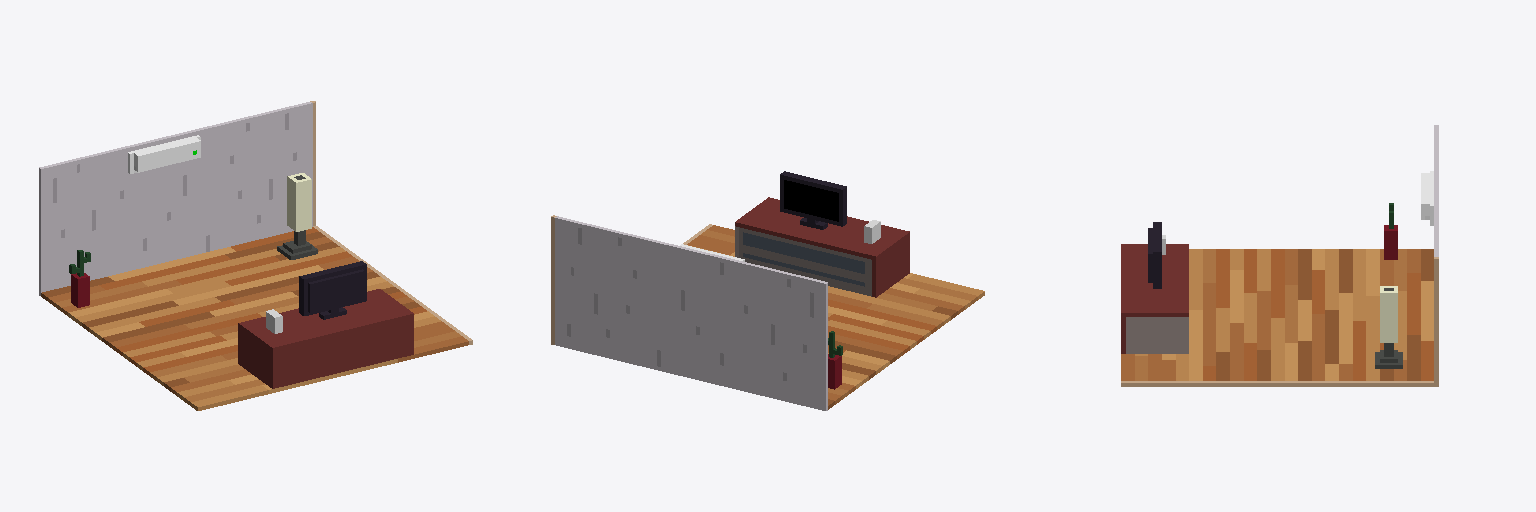
The picture shows the model from 3 angles: view 1: azimuth 30°, elevation 25°; view 2: azimuth 150°, elevation 25°; view 3: azimuth 270°, elevation 25°; orthographic projection.
Parts seen in each view (by area): view 1: object 1; view 2: object 1; view 3: object 1.
Boxes of the visible parts, x1=… form: object 1: x1=39, y1=101, x2=472, y2=410; object 1: x1=551, y1=171, x2=984, y2=410; object 1: x1=1121, y1=125, x2=1438, y2=386.
Bounding box in the file's own units: 7 × 3.1 × 7.
Materials: 1 (1 with a texture image).